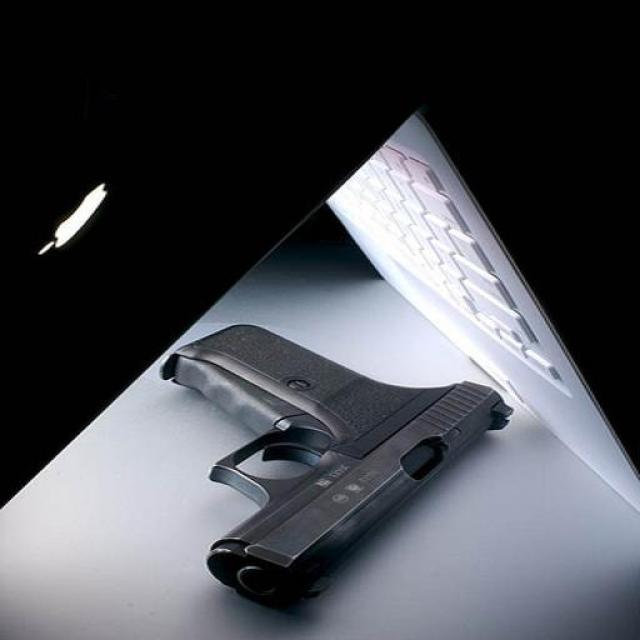pistol: (152, 321, 515, 609)
